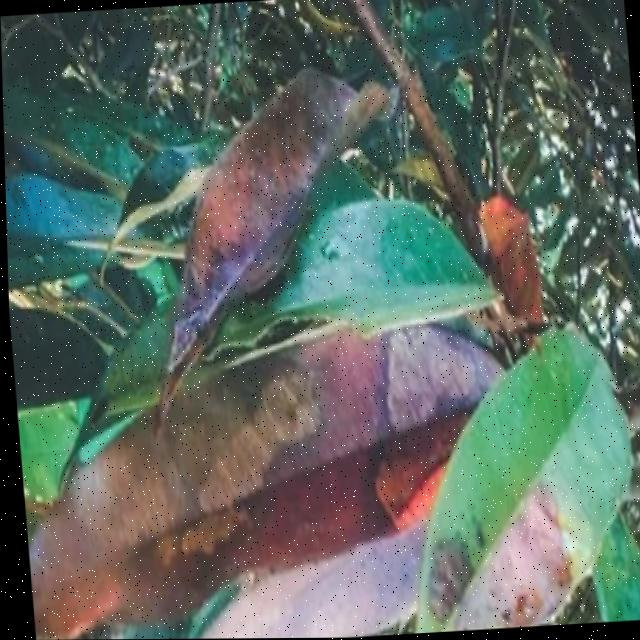Leaf_Blight: (38, 302, 519, 624), (139, 38, 456, 327), (369, 438, 604, 629)
